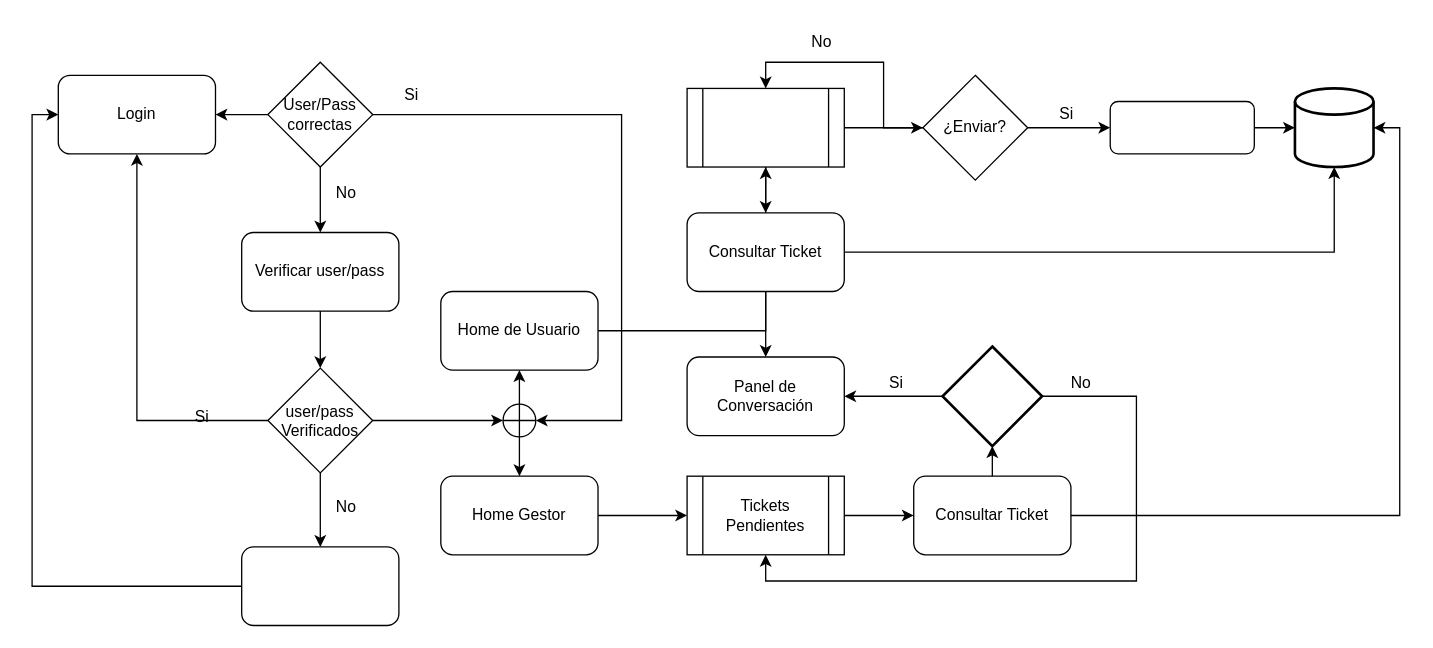
Some shapes in this 1433 by 648 pixel diagram are drawn without their labels. Here are the shapes that lost their labels. From the top down, the box of each, then its label:
(686, 87, 844, 167): Crear ticket
(1109, 100, 1254, 154): Ticket Generado Exitosamente
(1293, 86, 1374, 168): MySQL
(941, 345, 1043, 447): Resolver Ticket
(240, 546, 399, 626): Restablecer usuario/contraseña
